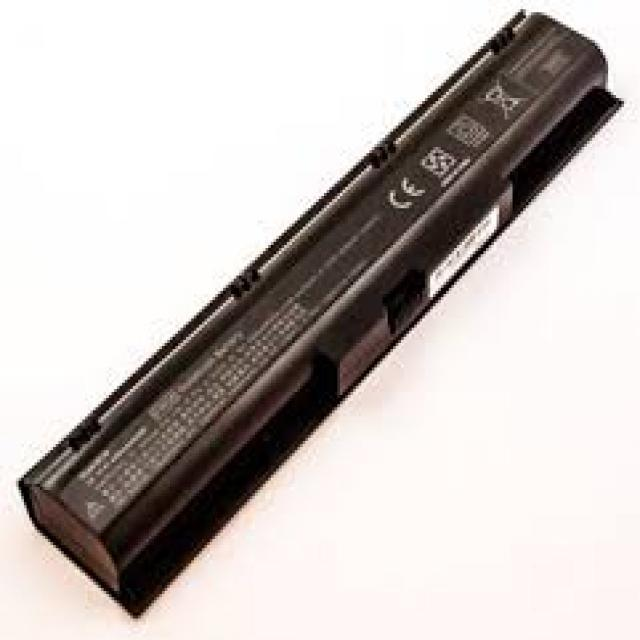battery: (15, 5, 621, 623)
